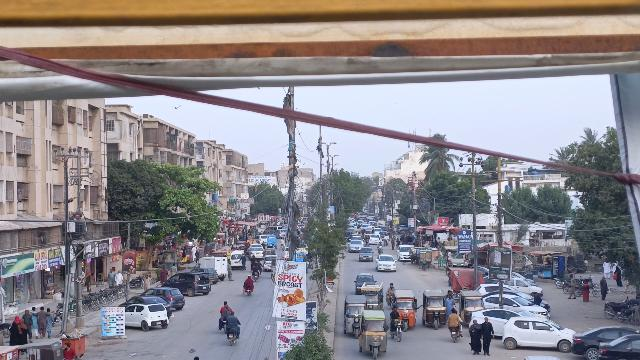Bike: (390, 319, 404, 342), (447, 325, 464, 343), (227, 329, 240, 346), (243, 286, 254, 299), (219, 317, 227, 331)
Car: (501, 314, 576, 352), (569, 324, 627, 360), (123, 302, 170, 333), (162, 271, 212, 297), (597, 332, 640, 360), (142, 286, 186, 310), (351, 272, 374, 292), (375, 254, 397, 272)
Person: (466, 318, 483, 356), (480, 316, 495, 356), (22, 308, 33, 344), (37, 306, 47, 339), (17, 318, 28, 345), (448, 308, 464, 326), (227, 310, 241, 329), (7, 321, 18, 345), (46, 307, 54, 339), (30, 307, 38, 339), (219, 300, 230, 318), (390, 304, 401, 321), (244, 274, 254, 286)
Rickshaw: (358, 310, 390, 359), (392, 288, 419, 333), (420, 288, 447, 332), (342, 295, 366, 339), (458, 289, 482, 324), (360, 283, 386, 311)
Truck: (196, 255, 228, 279)
